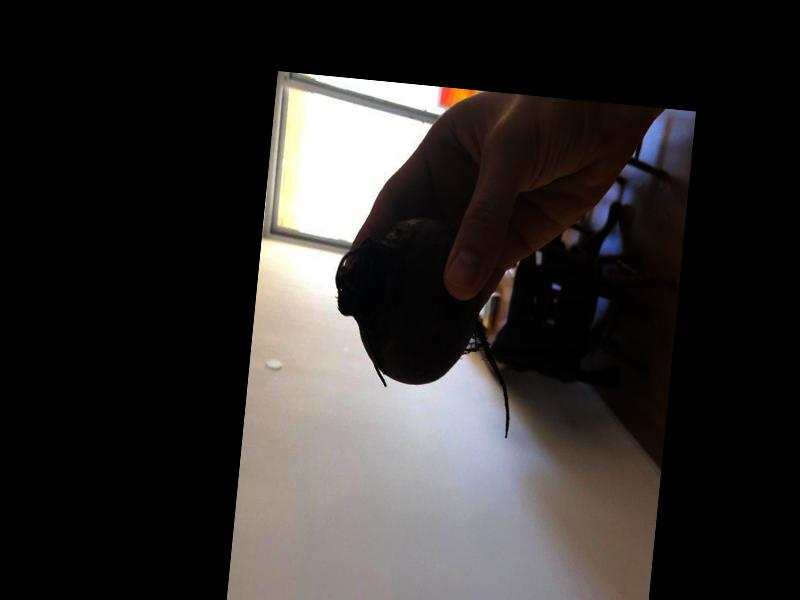Beet: (321, 210, 527, 439)
